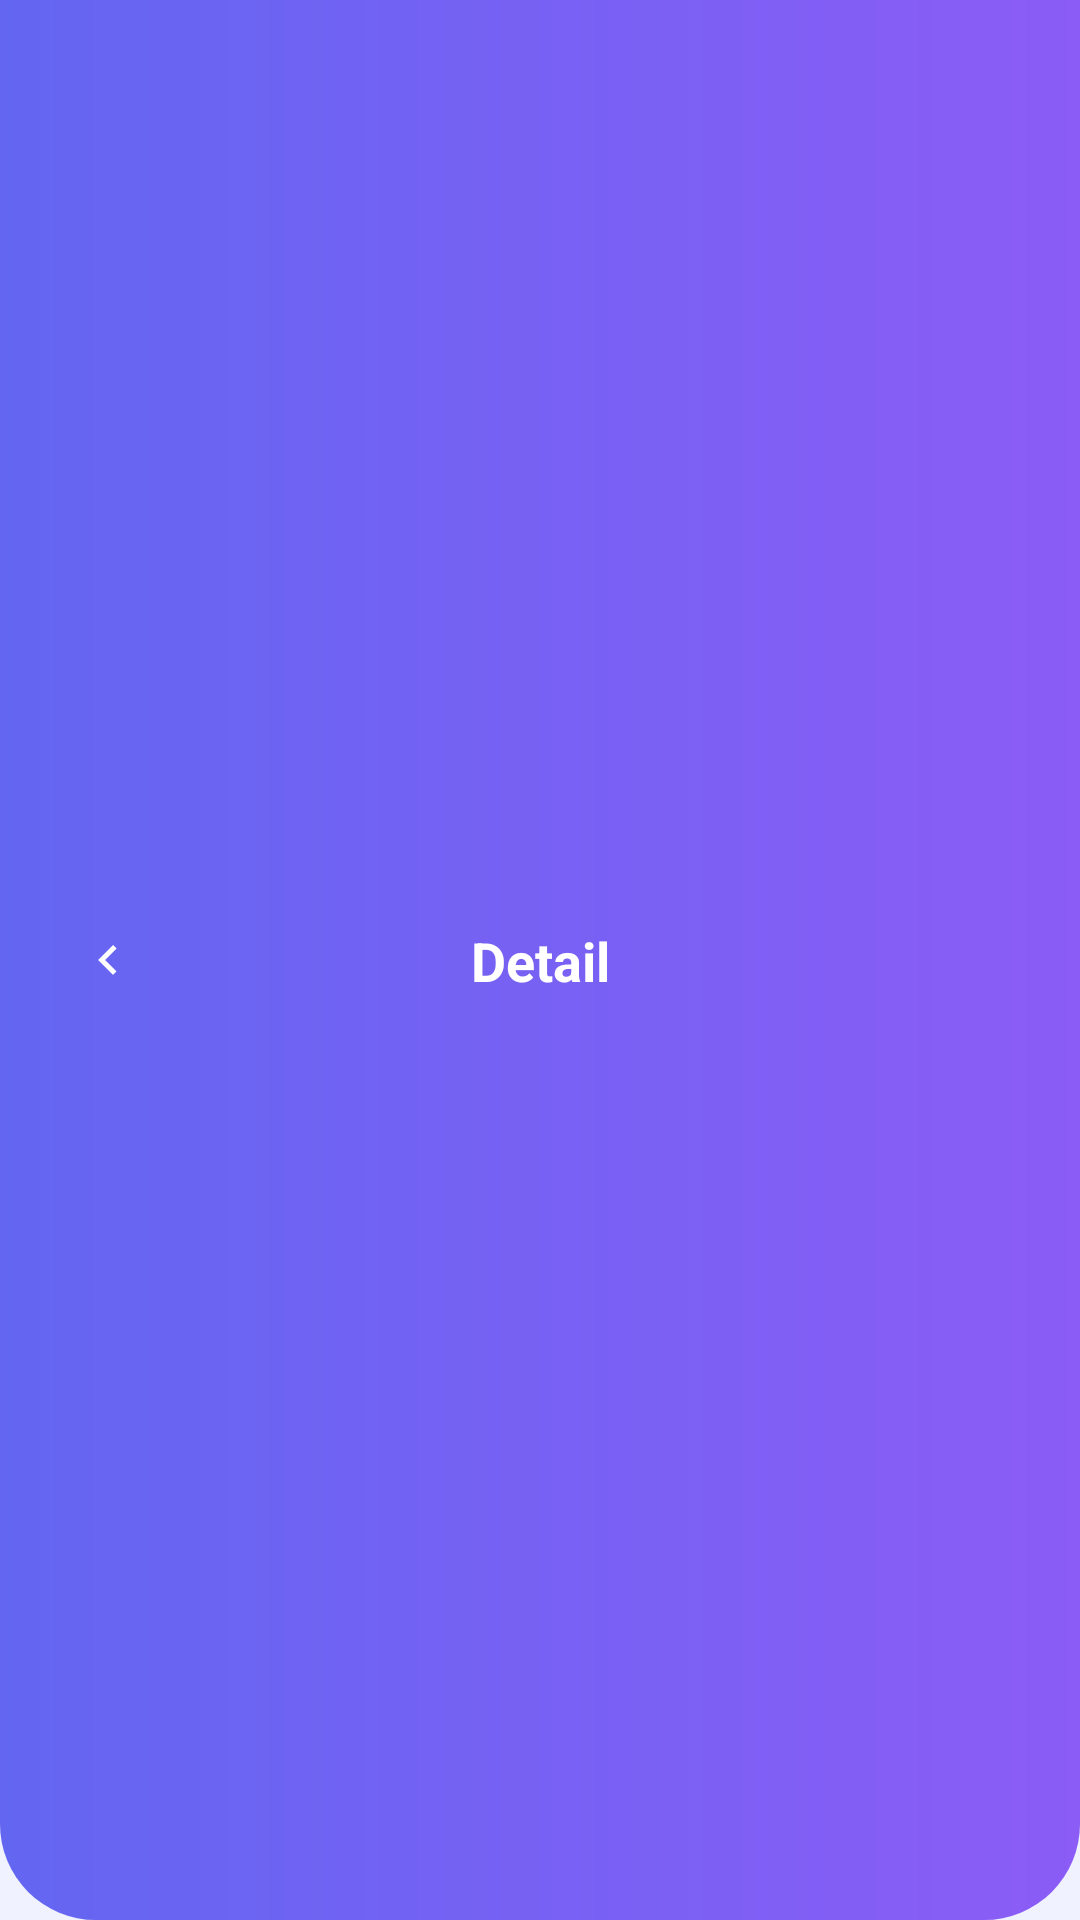

Icon bounding boxes for this 1080 x 1920 phone screenshot, format (x1, y1, x2, y2):
chevron left: (98, 945, 117, 975)
